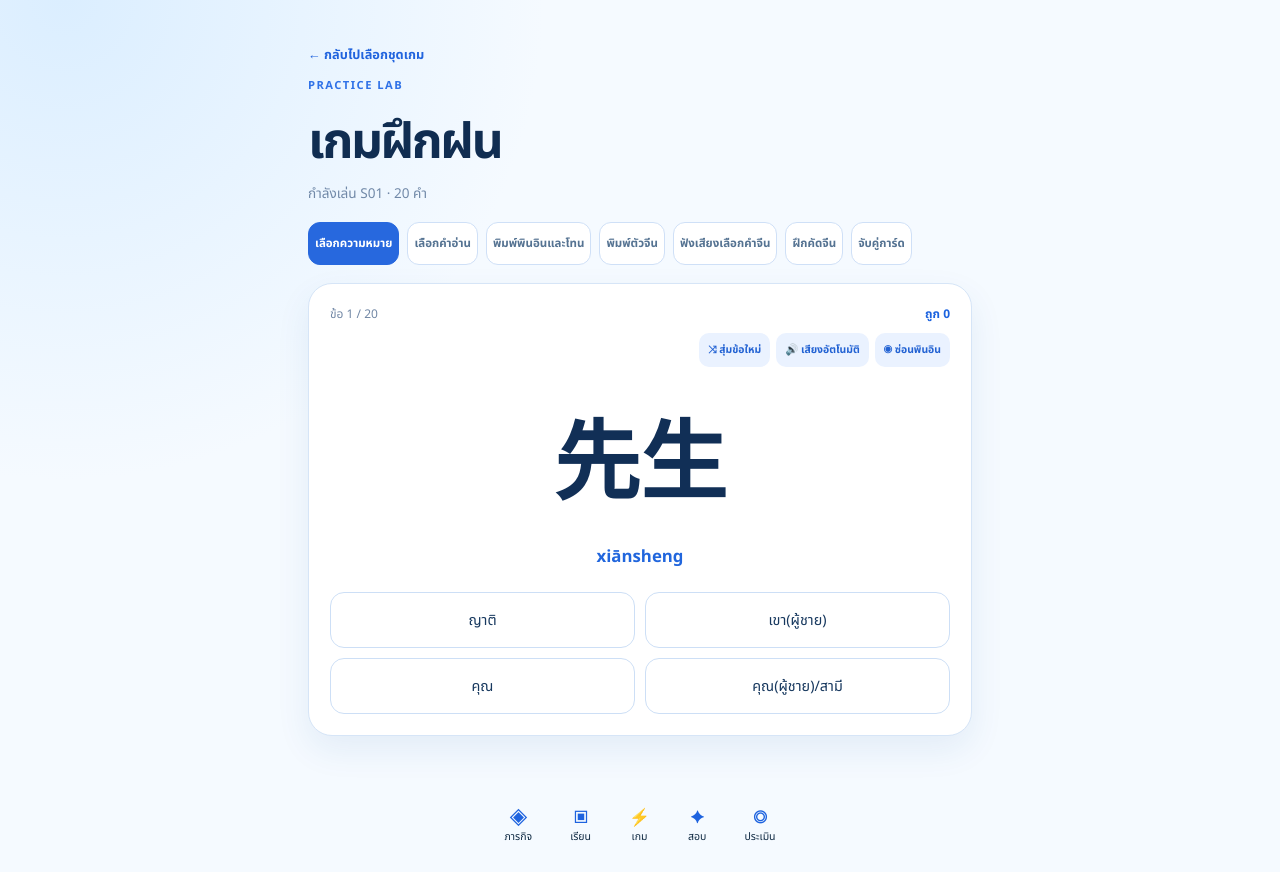
Scenario: renders a practice route with game modes
Expected: the heading "เกมฝึกฝน" is shown, [308, 105, 501, 180]
Expected: the button "เลือกความหมาย" is shown, [308, 222, 399, 265]
Click the button "พิมพ์พินอินและโทน". click: (539, 244)
box: [486, 222, 591, 265]
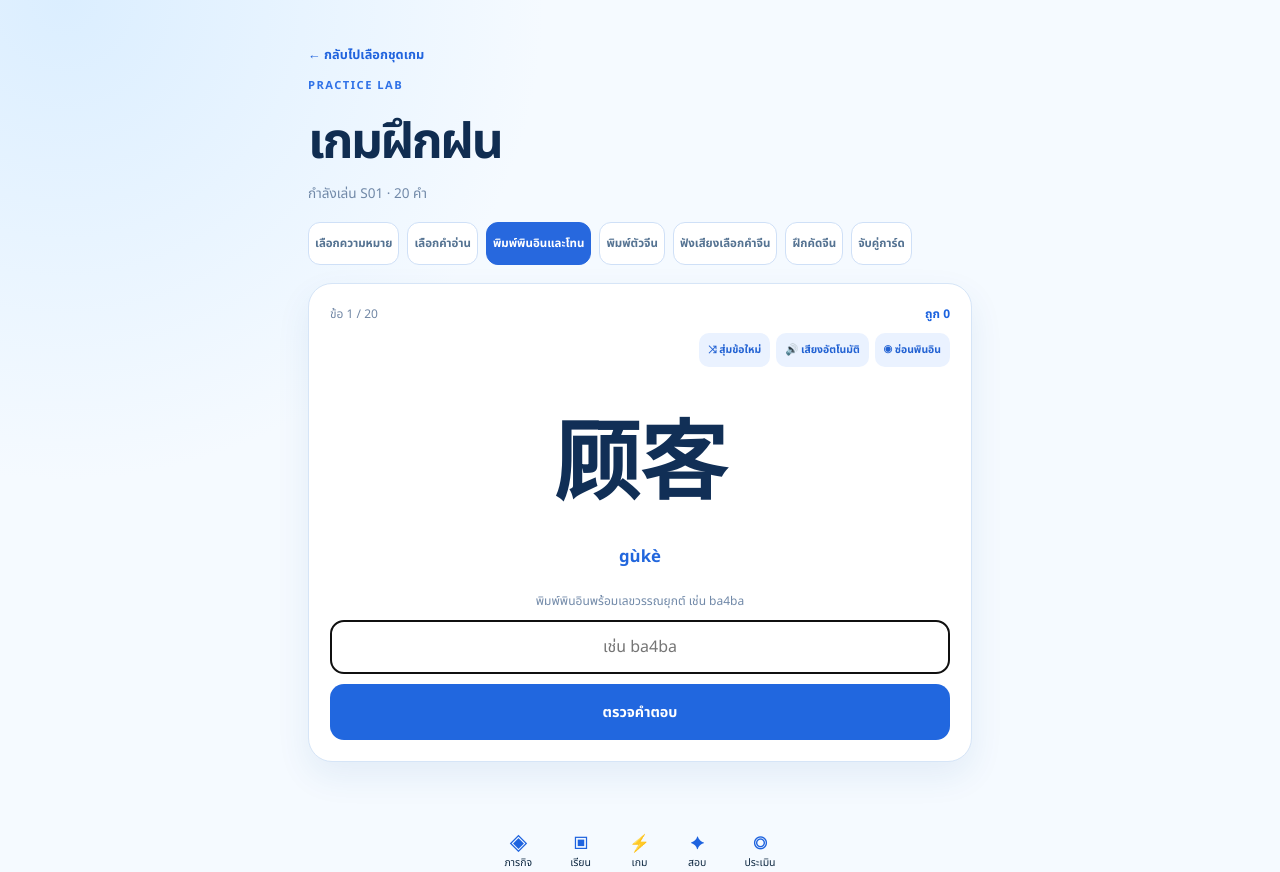
Click the button "ฟังเสียงเลือกคำจีน". click: (725, 244)
box: [673, 222, 777, 265]
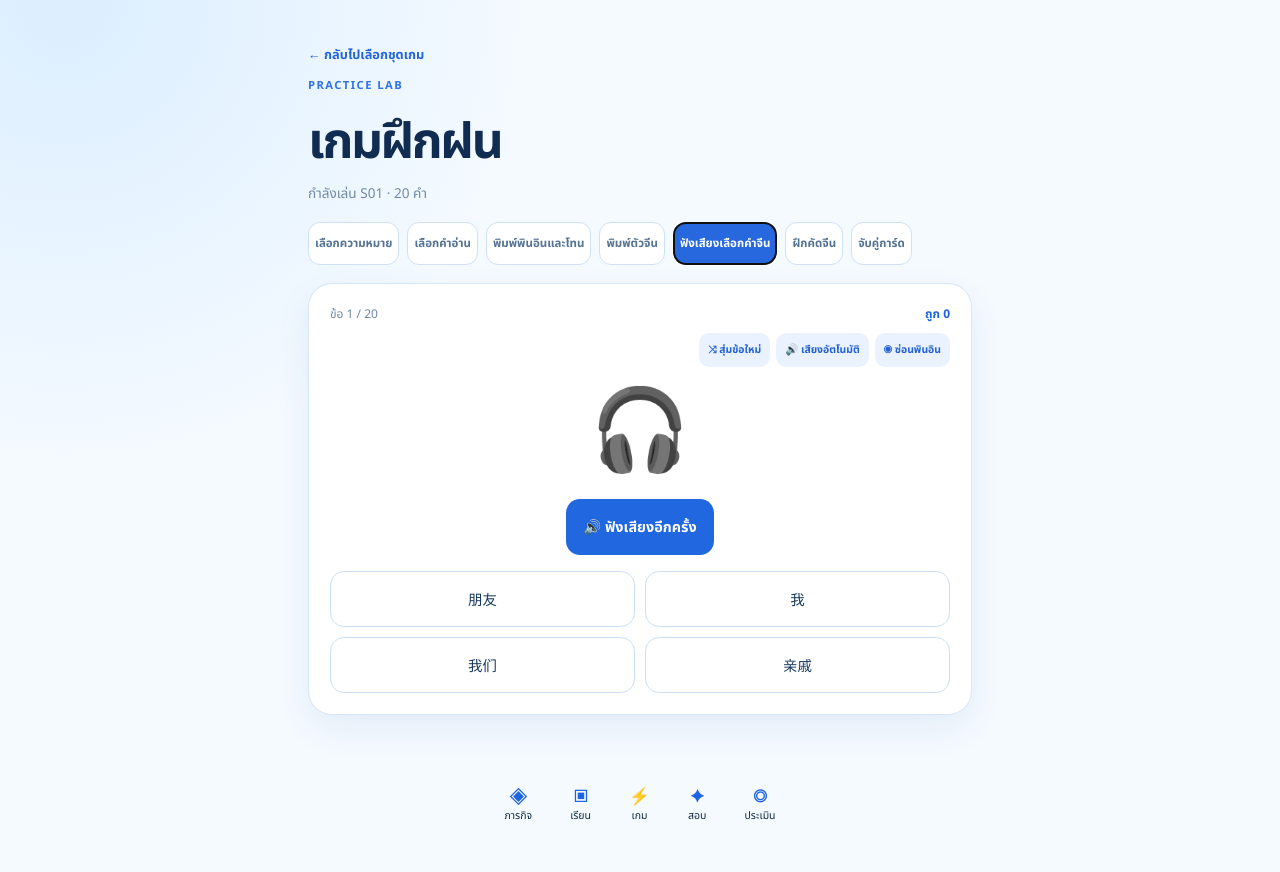
Result: the button "🔊 ฟังเสียงอีกครั้ง" is shown at [566, 499, 714, 555]
Click the button "ฝึกคัดจีน". click: (814, 244)
box: [786, 222, 843, 265]
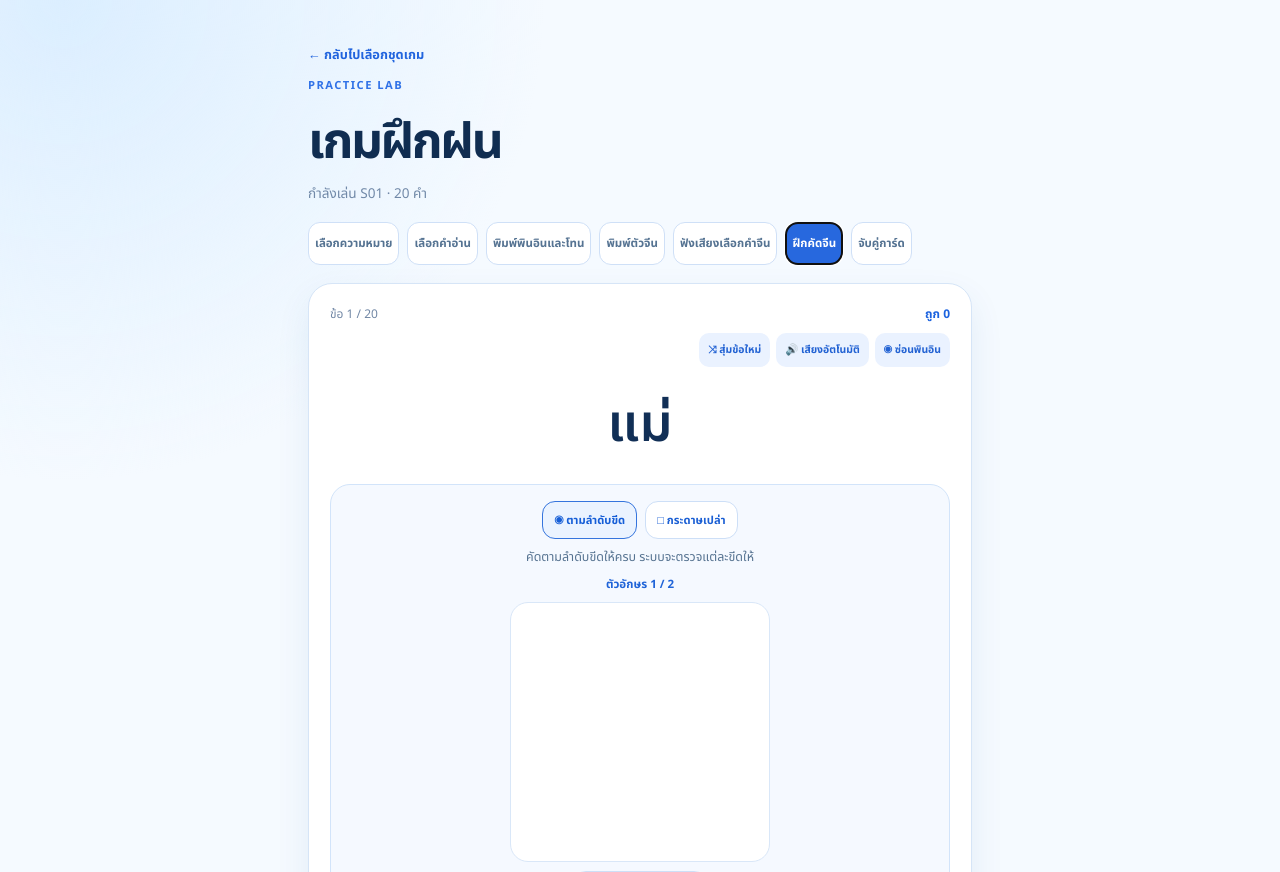
Result: the text "แม่" is shown at [608, 386, 672, 464]
Result: the button "◉ ตามลำดับขีด" is shown at [542, 501, 637, 539]
Result: the button "□ กระดาษเปล่า" is shown
Click the button "□ กระดาษเปล่า". click: (691, 520)
box: [645, 501, 738, 539]
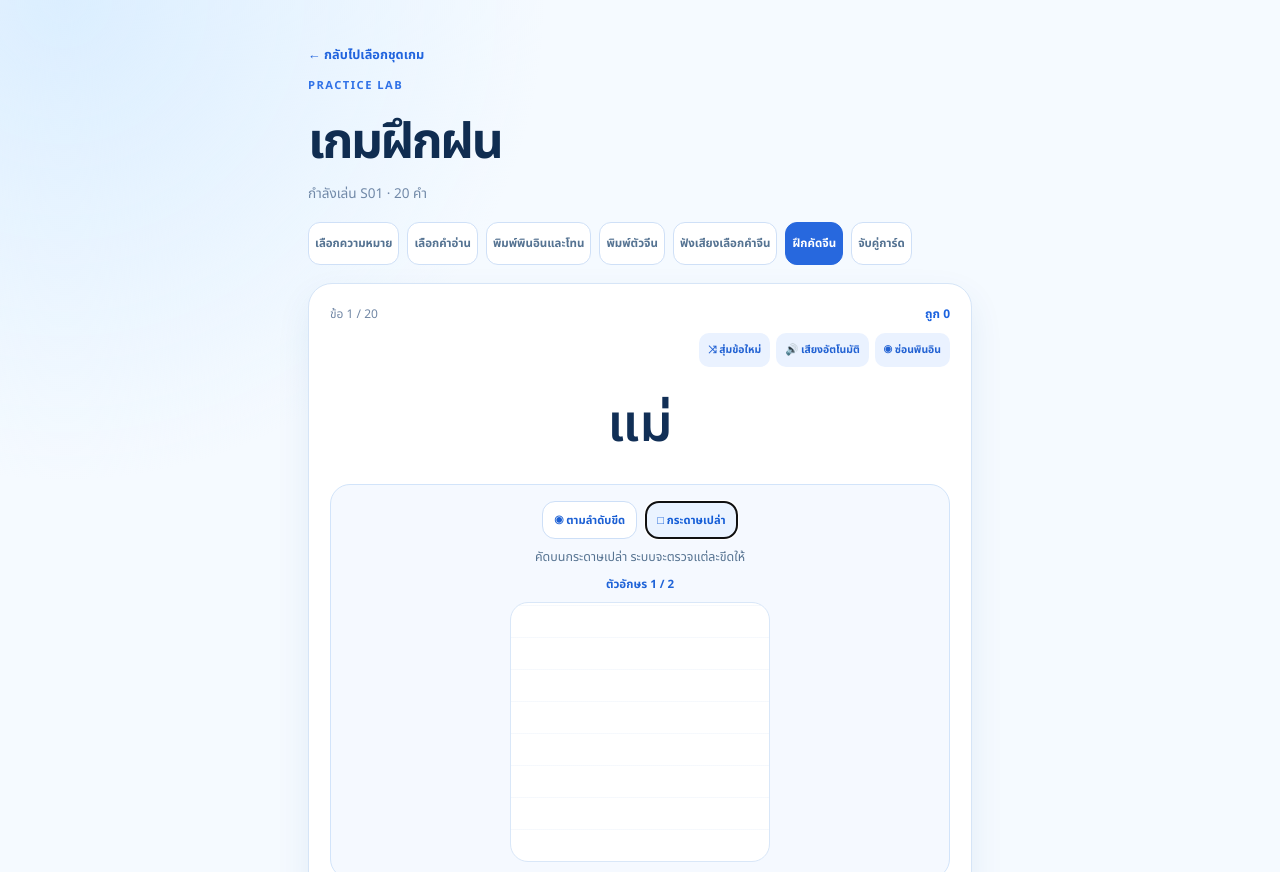
Result: the button "□ กระดาษเปล่า" is pressed at [645, 501, 738, 539]
Result: the button "◉ ตามลำดับขีด" is not pressed at [542, 501, 637, 539]
